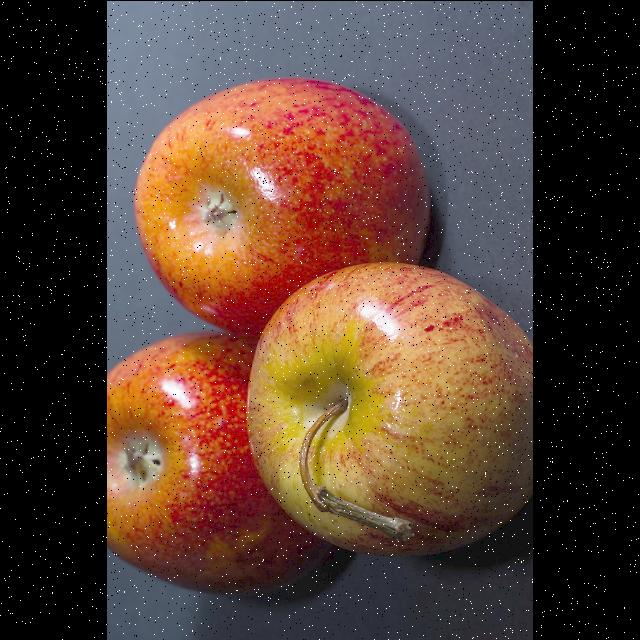Apel Segar: (117, 60, 430, 330), (107, 307, 299, 603)
Apel Tidak Segar: (242, 248, 534, 596)
